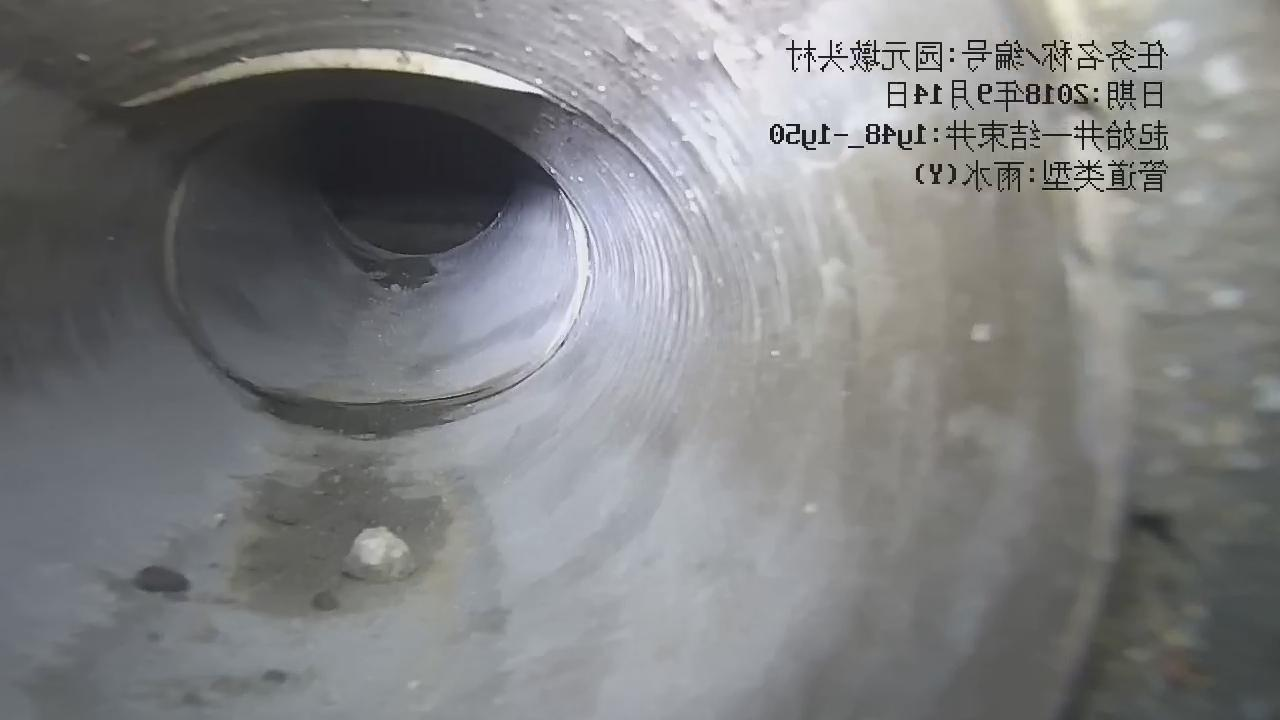CKTJ: (154, 118, 597, 445), (122, 48, 548, 105)
